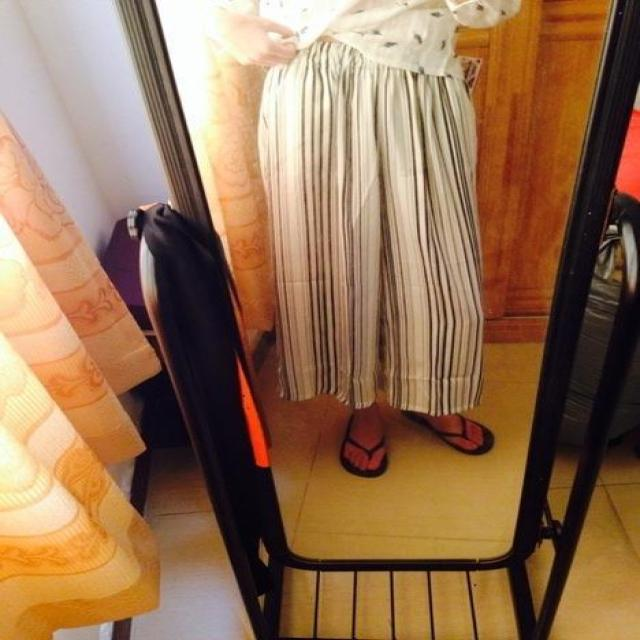long sleeve top: (259, 1, 462, 78)
trousers: (264, 38, 480, 410)
